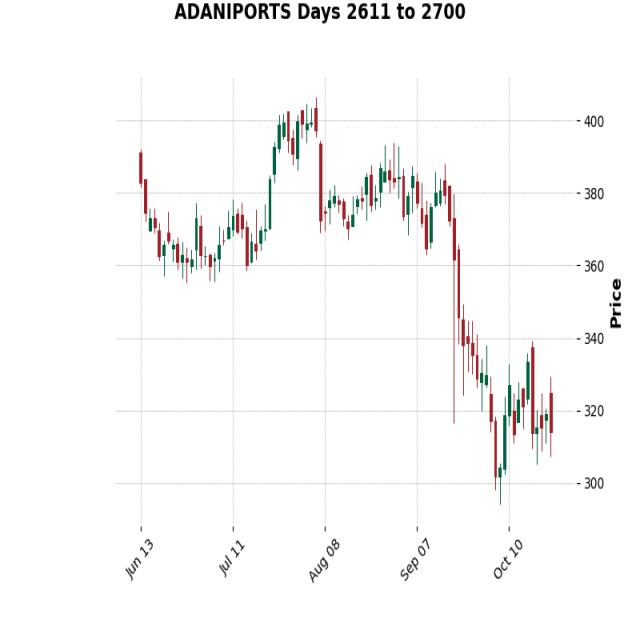Descending Triangle: (296, 88, 458, 272)
